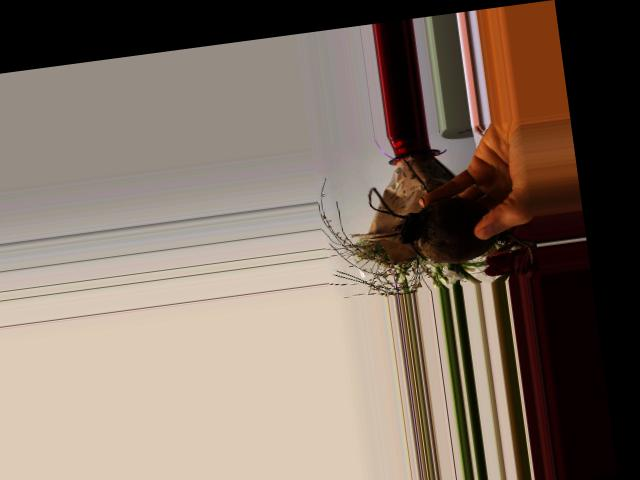beet: (366, 168, 533, 283)
